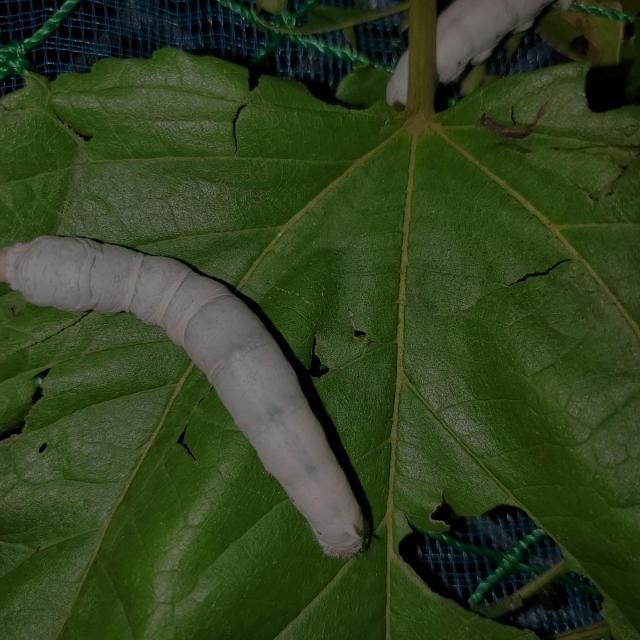Healthy: (0, 213, 380, 568)
